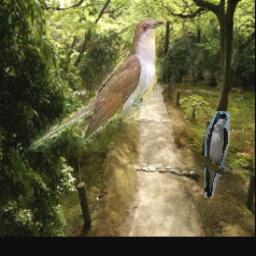Cuckoo: (25, 17, 167, 152)
Swallow: (204, 112, 230, 199)
